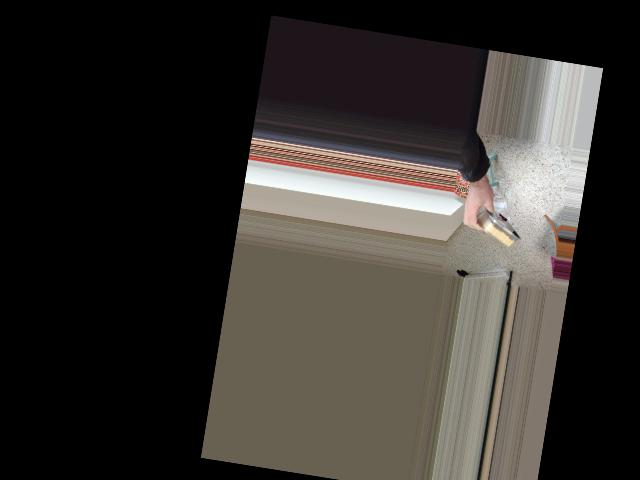cheese: (449, 191, 528, 258)
